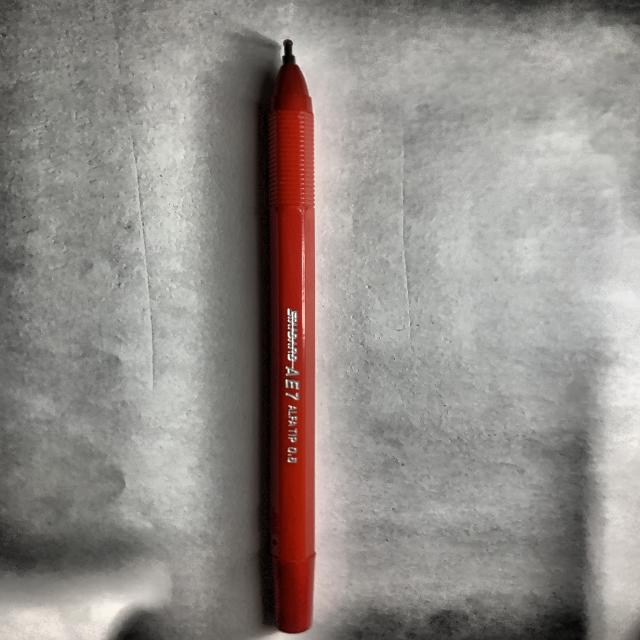Pulpen: (250, 32, 332, 640)
